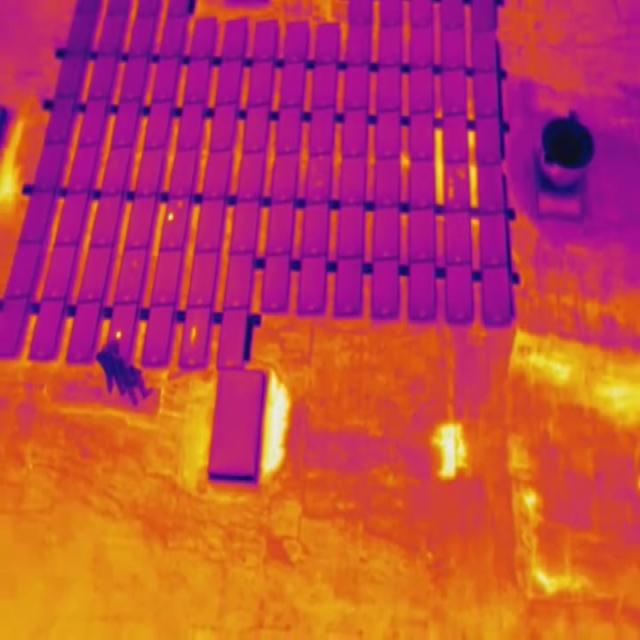Orange-Spots: (447, 176, 455, 199), (190, 327, 196, 342), (167, 212, 175, 222), (459, 170, 465, 180), (116, 330, 122, 339), (177, 202, 183, 208)
